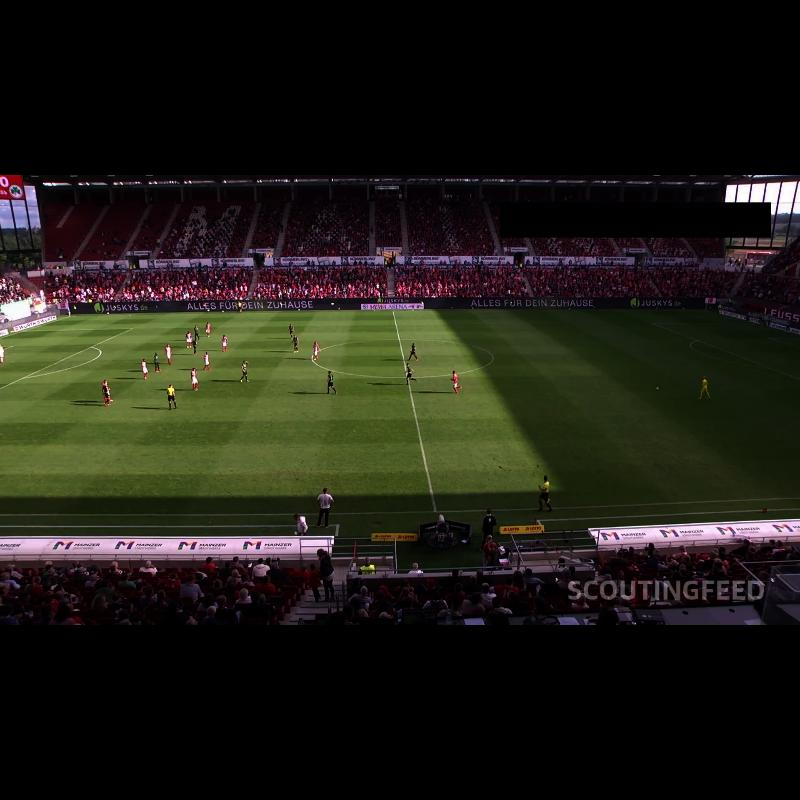cross_recipient_zone: (653, 323, 800, 380), (0, 329, 132, 388)
crossing_player_zone: (24, 314, 218, 330), (569, 310, 750, 323), (0, 423, 36, 457), (771, 411, 800, 432)
pitch: (0, 312, 800, 515)
